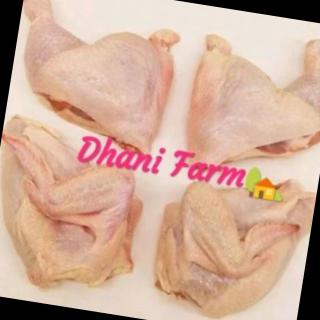Ayam: (2, 1, 182, 162), (1, 114, 153, 302), (147, 162, 314, 320), (182, 23, 320, 190)
